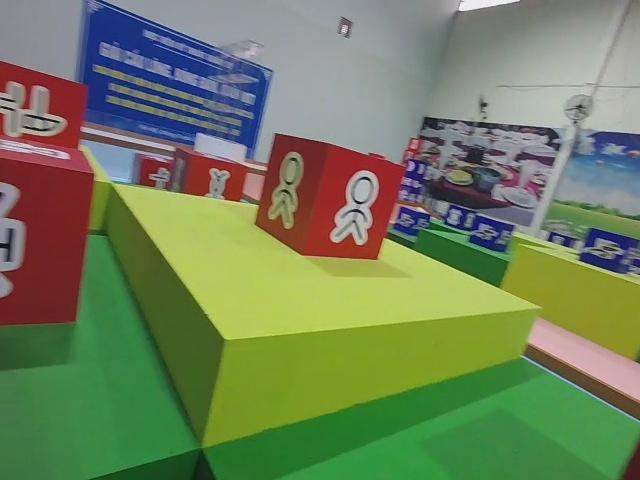R2 Real: (252, 129, 408, 263), (0, 57, 89, 172), (166, 143, 249, 207)
